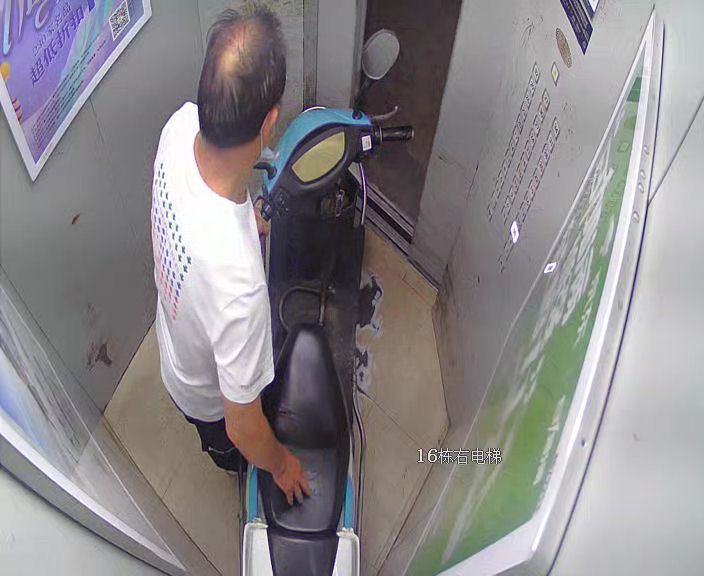Electric-bicycle: (237, 29, 414, 573)
